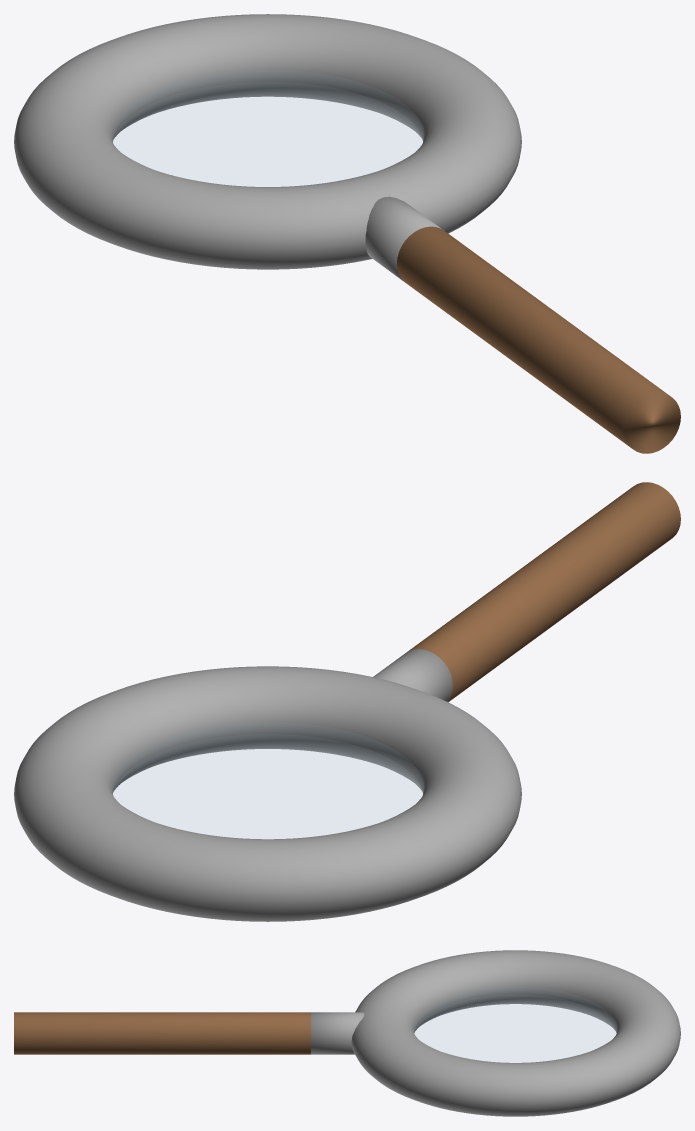
The model's file is MagnifyingGlass.dae.
3 renders of one model, top to bottom at view 1: azimuth 30°, elevation 25°; view 2: azimuth 150°, elevation 25°; view 3: azimuth 270°, elevation 25°, orthographic. The views are drawn at different scales.
Visible parts, largest first — view 1: Torus, Cylinder, Cylinder_002, Cylinder_001; view 2: Torus, Cylinder, Cylinder_002, Cylinder_001; view 3: Torus, Cylinder_002, Cylinder, Cylinder_001.
Part boxes in pixels (x1,y1,x2,y2): Torus: (14, 14, 521, 269); Cylinder: (113, 82, 422, 186); Cylinder_002: (397, 226, 680, 453); Cylinder_001: (365, 196, 442, 281); Torus: (14, 666, 521, 921); Cylinder: (113, 734, 422, 838); Cylinder_002: (407, 482, 680, 702); Cylinder_001: (373, 649, 452, 701); Torus: (351, 950, 680, 1116); Cylinder_002: (14, 1012, 310, 1054); Cylinder: (414, 994, 616, 1062); Cylinder_001: (311, 1012, 364, 1054).
Size of the model in its own units: 3.12 by 6.29 by 0.4833.
